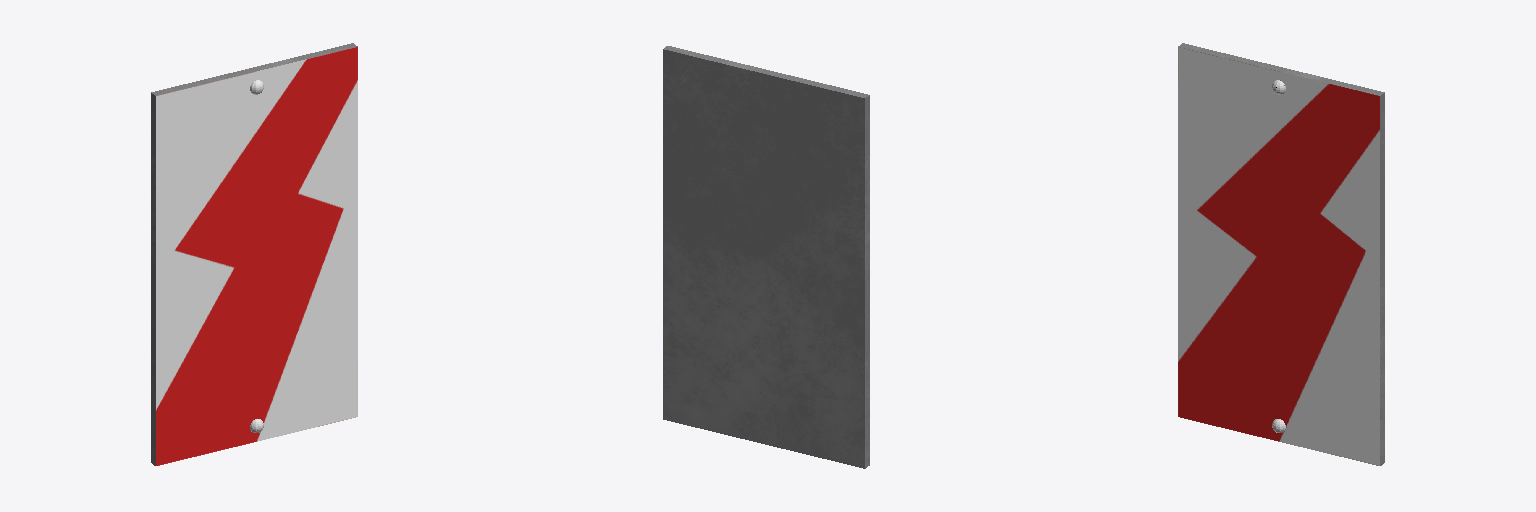
3 renders of one model, left to right at view 1: azimuth 30°, elevation 25°; view 2: azimuth 150°, elevation 25°; view 3: azimuth 330°, elevation 25°, orthographic.
Visible parts, largest first — view 1: Pole._Board; view 2: Pole._Board; view 3: Pole._Board.
Part boxes in pixels (x1,y1,x2,y2): Pole._Board: (151, 43, 357, 465); Pole._Board: (663, 46, 869, 468); Pole._Board: (1178, 43, 1384, 465).
Size of the model in its own units: 0.2 by 0.35 by 0.014.
1 materials, 1 textured.